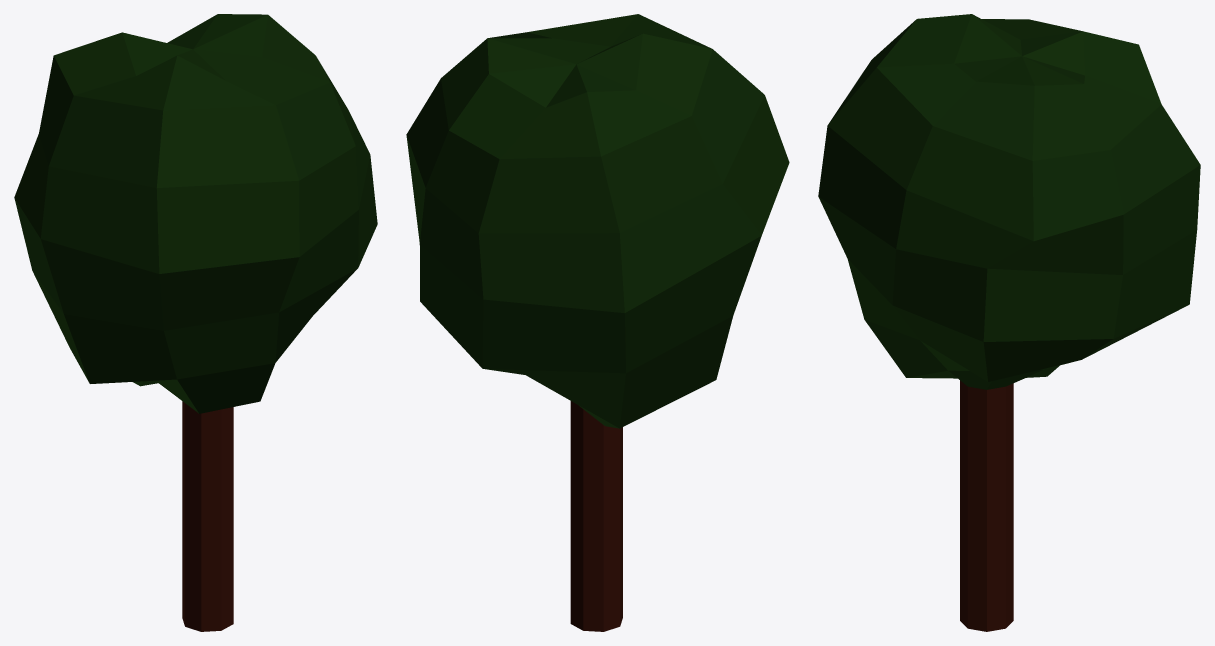
Rendered from Tree2.fbx.
The picture shows the model from 3 angles, left to right: view 1: azimuth 30°, elevation 25°; view 2: azimuth 150°, elevation 25°; view 3: azimuth 270°, elevation 25°; orthographic projection.
Parts seen in each view (by area): view 1: Tree; view 2: Tree; view 3: Tree.
Boxes of the visible parts, x1=… form: Tree: x1=14, y1=14, x2=377, y2=631; Tree: x1=406, y1=14, x2=789, y2=631; Tree: x1=818, y1=14, x2=1200, y2=631.
Size of the model in its own units: 1.85 by 3.09 by 1.82.
